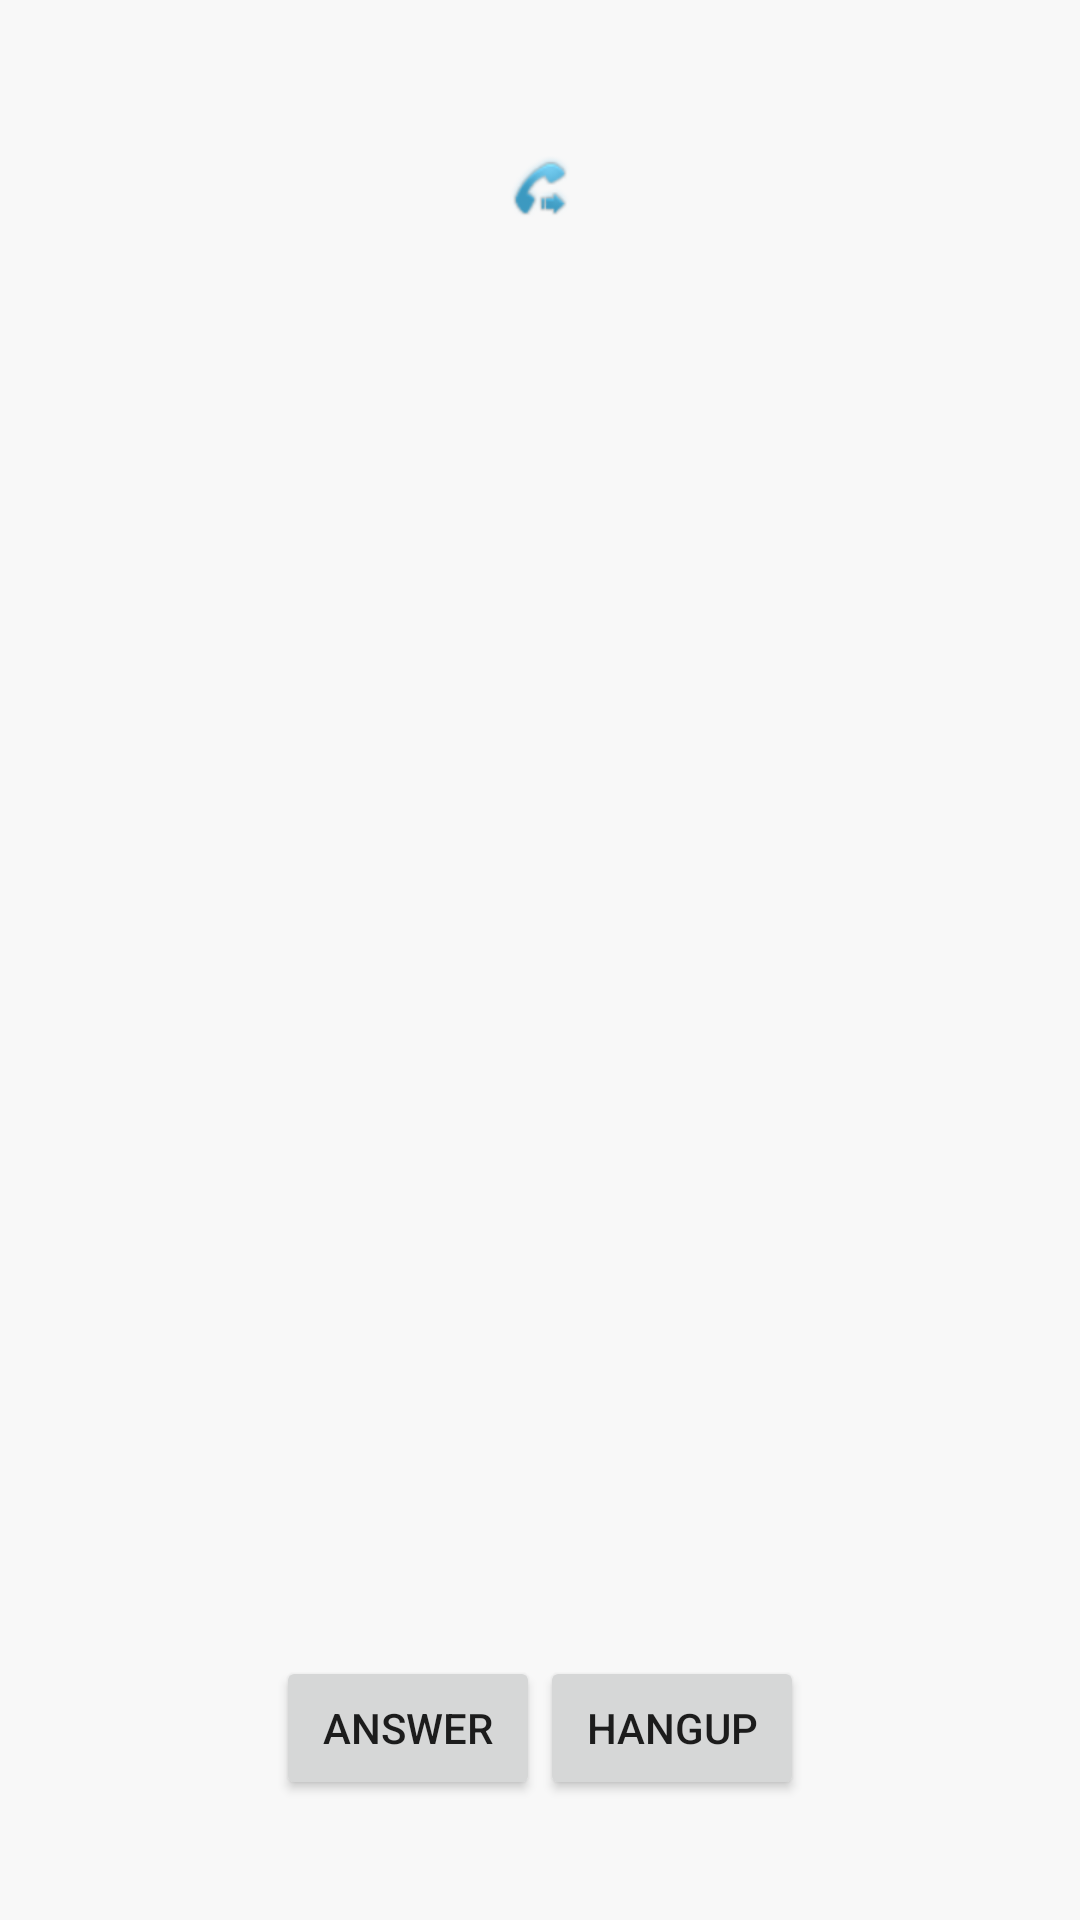

Locate icon controls on the screen. Image size 1080*1920, boxes as (x1, y1, x2, y2).
phone call forward: (514, 160, 566, 215)
